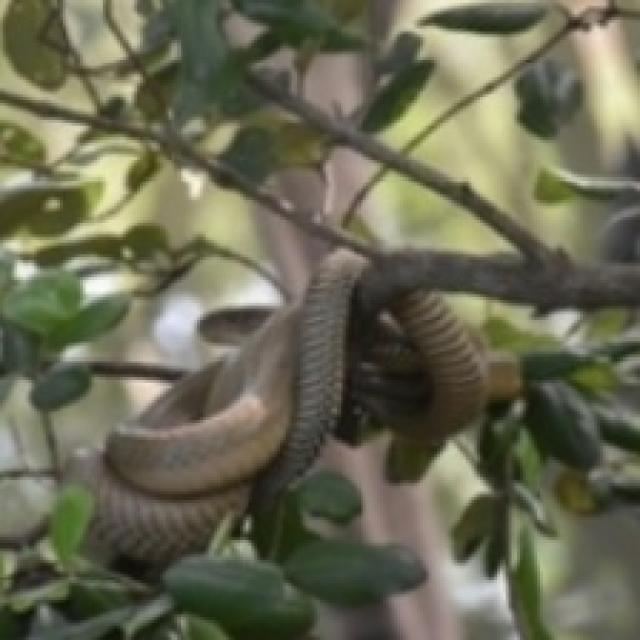king cobra: (80, 251, 363, 560), (360, 291, 483, 440)
